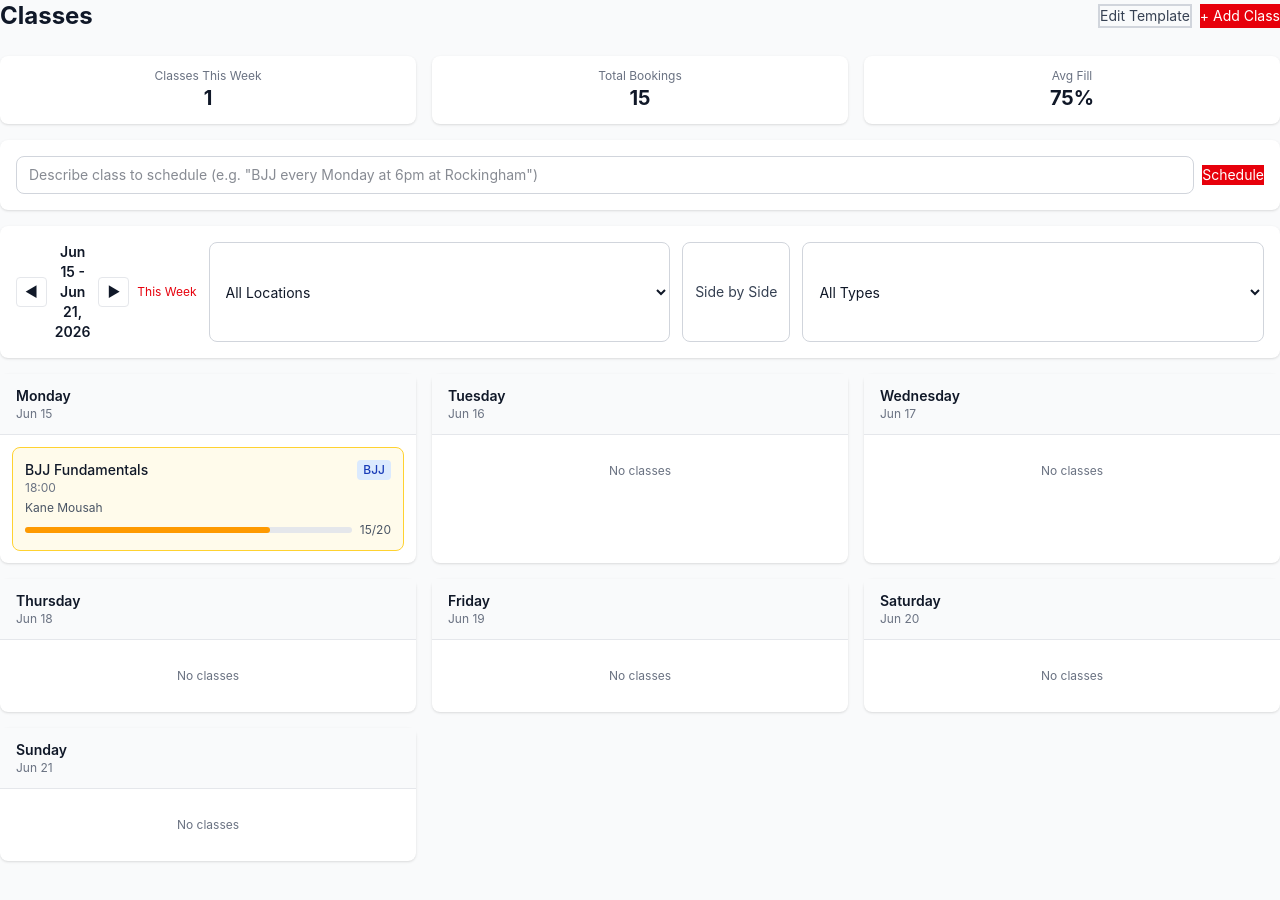
Scenario: Classes Page › opens instance drawer when class card is clicked
Click the button with aria-label "BJJ Fundamentals, 18:00". click: (87, 470)
box: x1=12 y1=447 x2=404 y2=551
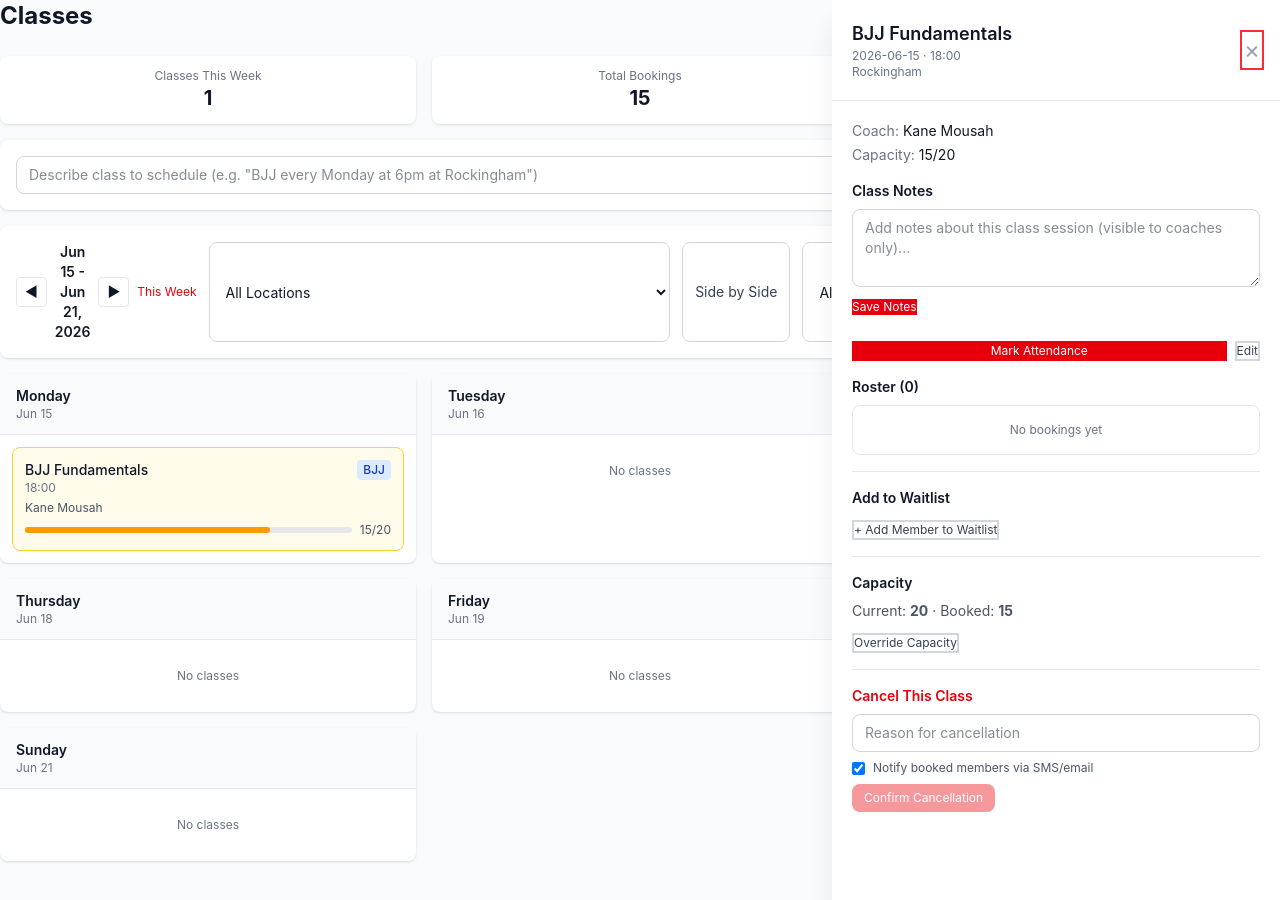
Check: the dialog named "Class details: BJJ Fundamentals" is shown, box x1=832 y1=0 x2=1279 y2=899
